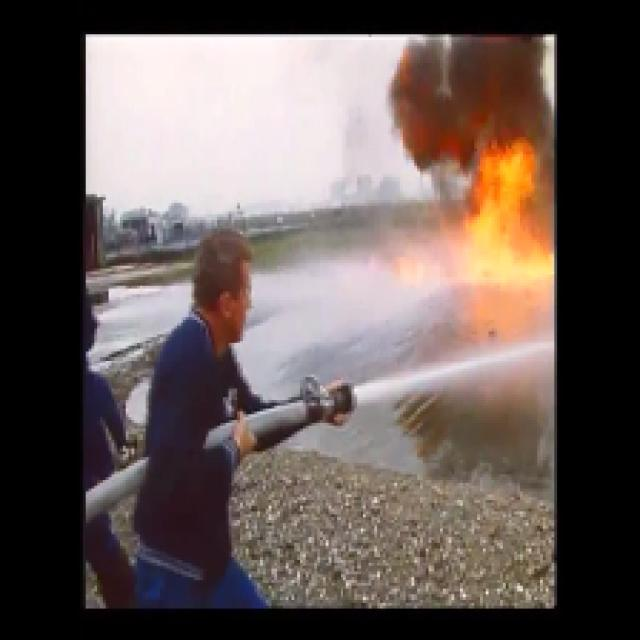fire: (474, 147, 534, 261)
smoke: (416, 54, 532, 136)
